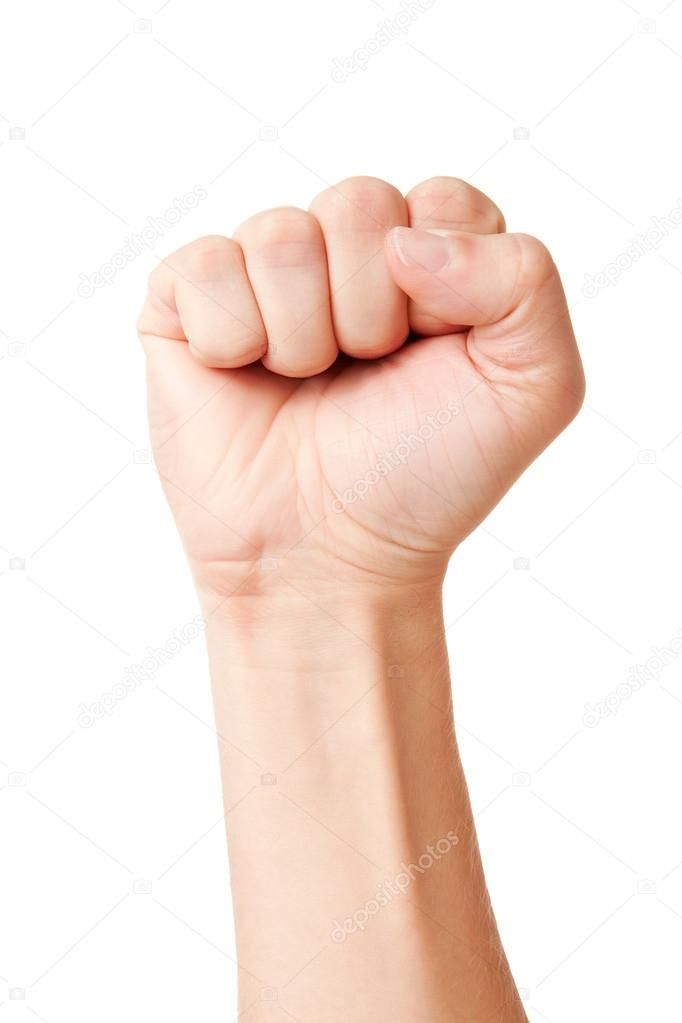fist: (114, 165, 594, 623)
